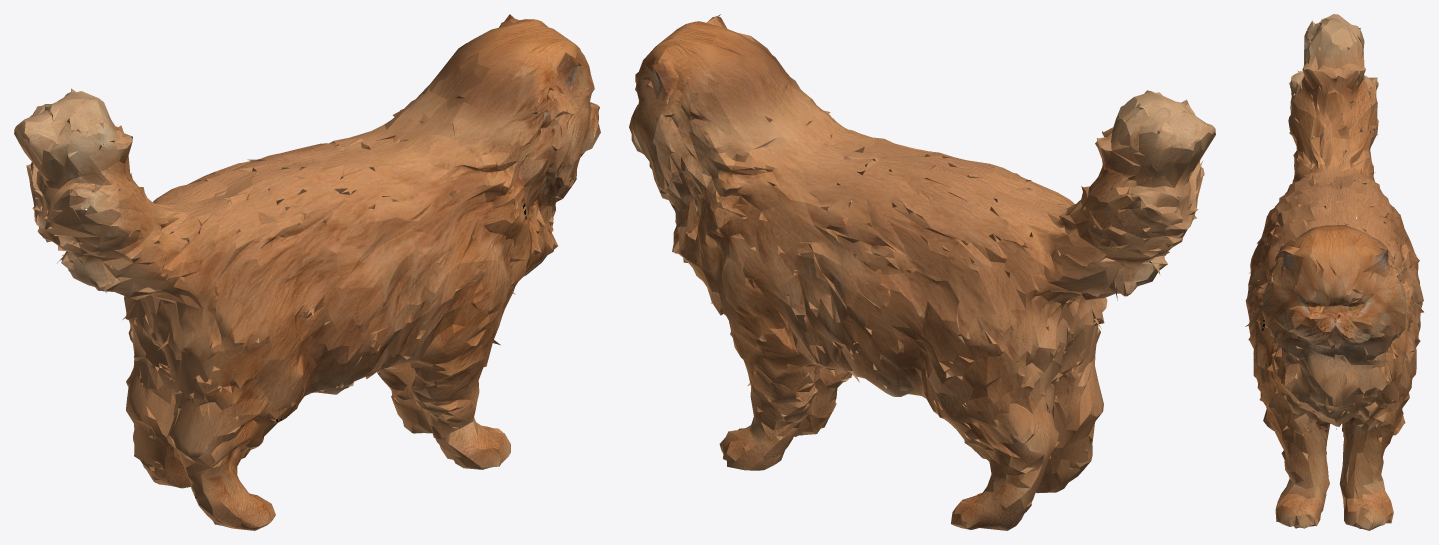
The model's file is CROOKSHNK.glb.
3 views of the same model, side by side, from view 1: azimuth 30°, elevation 25°; view 2: azimuth 150°, elevation 25°; view 3: azimuth 270°, elevation 25° (orthographic). The views are drawn at different scales.
Parts seen in each view (by area): view 1: output_unwrapped; view 2: output_unwrapped; view 3: output_unwrapped.
Part boxes in pixels (x1,y1,x2,y2): output_unwrapped: [14, 14, 600, 530]; output_unwrapped: [629, 14, 1215, 530]; output_unwrapped: [1245, 14, 1423, 530].
Bounding box in the file's own units: 1.36 × 1 × 0.4665.
Materials: 1 (1 with a texture image).
